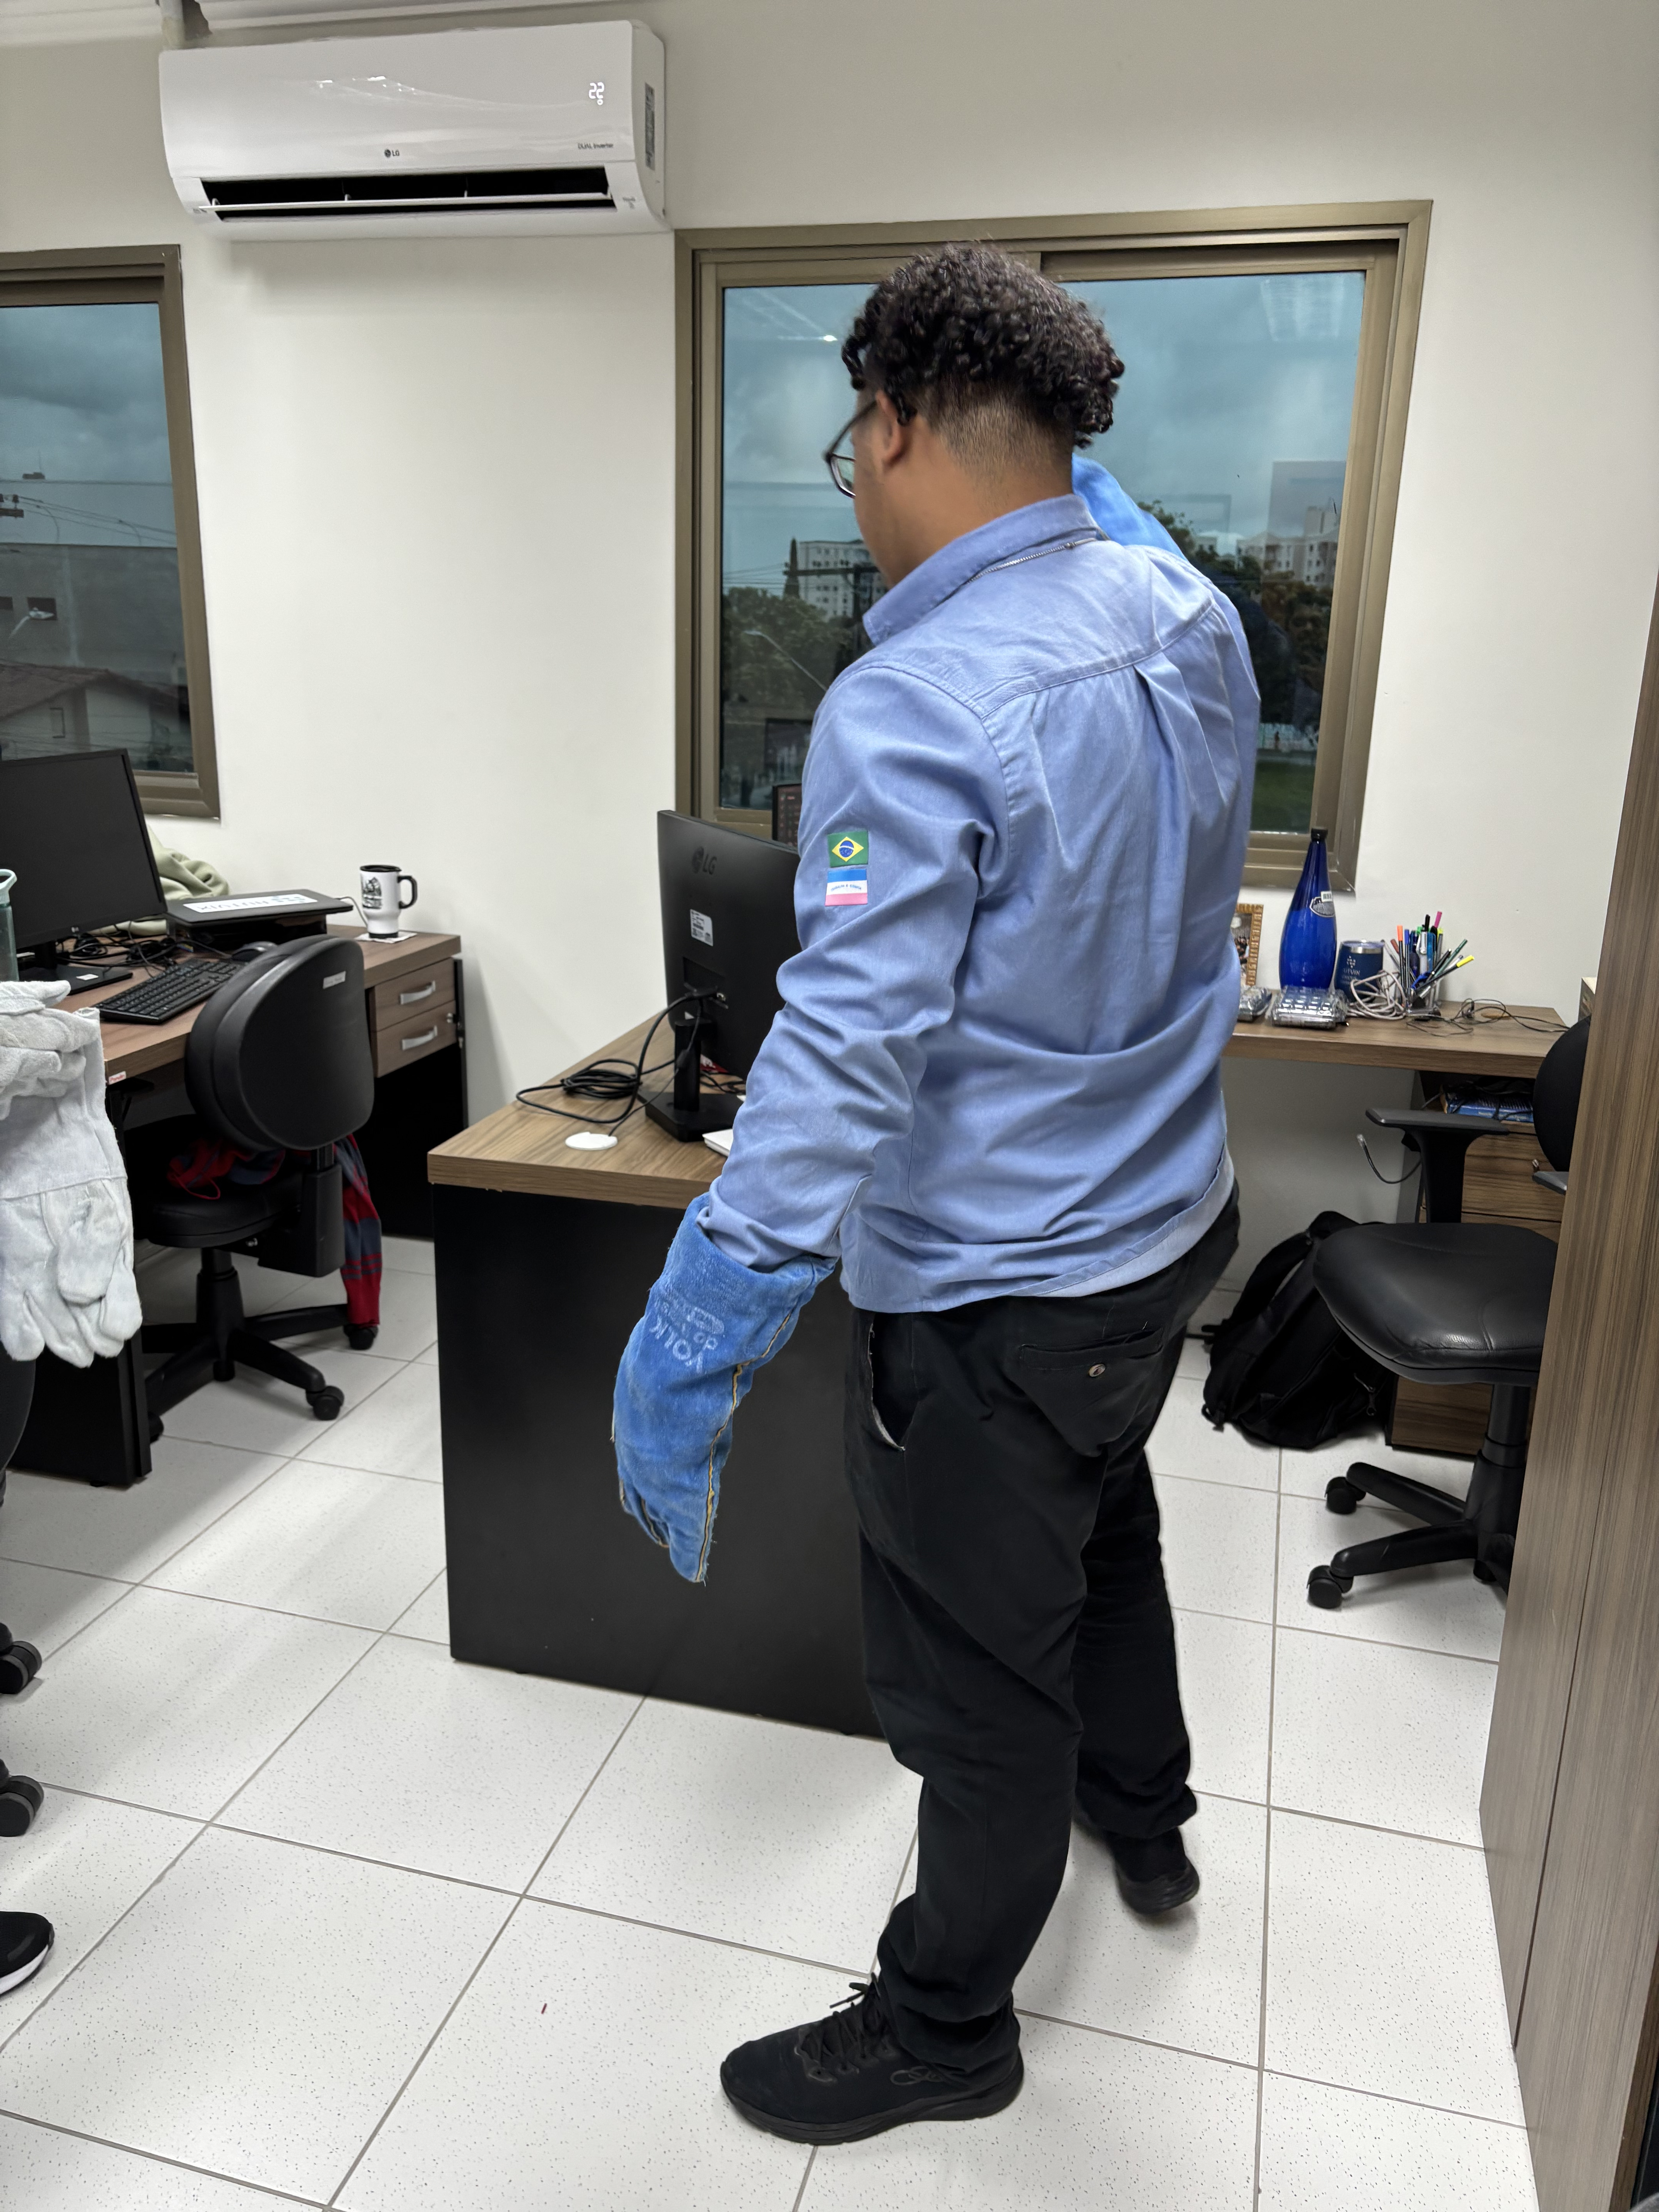Gloves: (619, 1193, 829, 1592)
